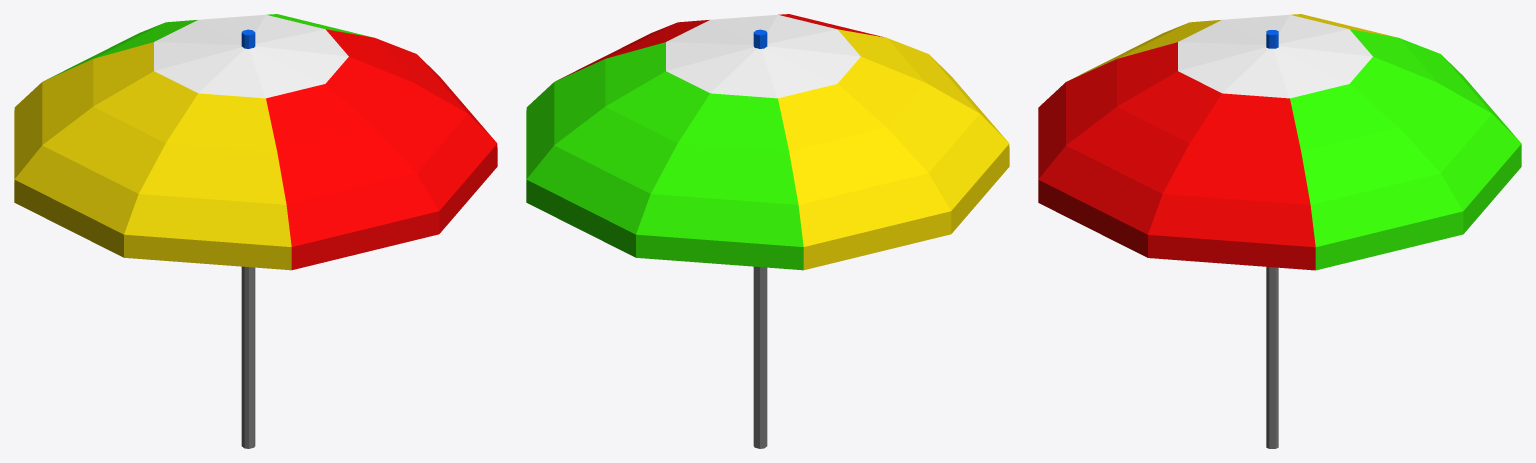
File: Umbra02.fbx
3 views of the same model, side by side, from view 1: azimuth 30°, elevation 25°; view 2: azimuth 150°, elevation 25°; view 3: azimuth 270°, elevation 25° (orthographic).
Visible parts, largest first — view 1: UmbrellaRainbow; view 2: UmbrellaRainbow; view 3: UmbrellaRainbow.
Part boxes in pixels (x1,y1,x2,y2): UmbrellaRainbow: [14, 14, 497, 448]; UmbrellaRainbow: [526, 14, 1009, 448]; UmbrellaRainbow: [1038, 14, 1521, 448].
Bounding box in the file's own units: 398 × 370 × 392.
